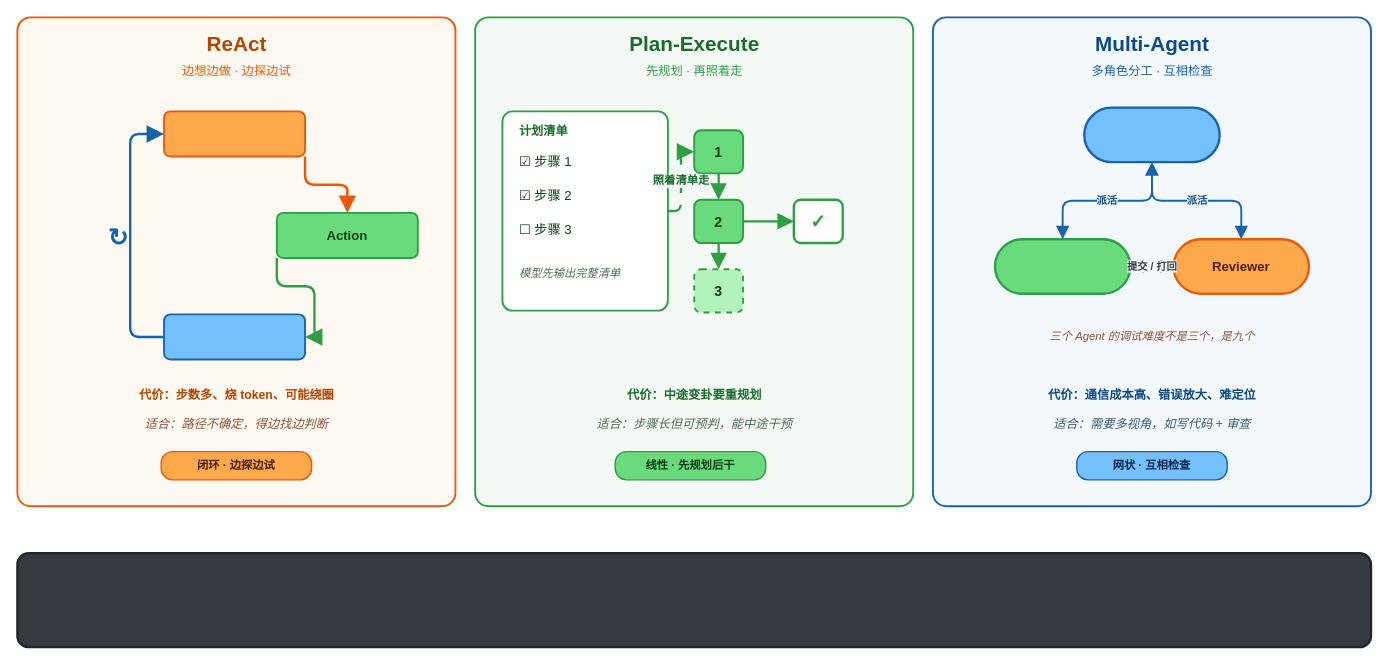
This 1388x665 diagram has some shape labels left out. The shapes that lost their labels are listed below. From the top down, each one's box as (x1, y1, x2, y2) in pixels, then its label:
(163, 110, 306, 157): Thought
(1083, 106, 1220, 163): Planner
(993, 238, 1131, 295): Executor
(163, 313, 306, 360): Observation
(16, 552, 1372, 648): 三种形态，一条选择线 边探边试 → 先规划后干 → 多角色互相检查
